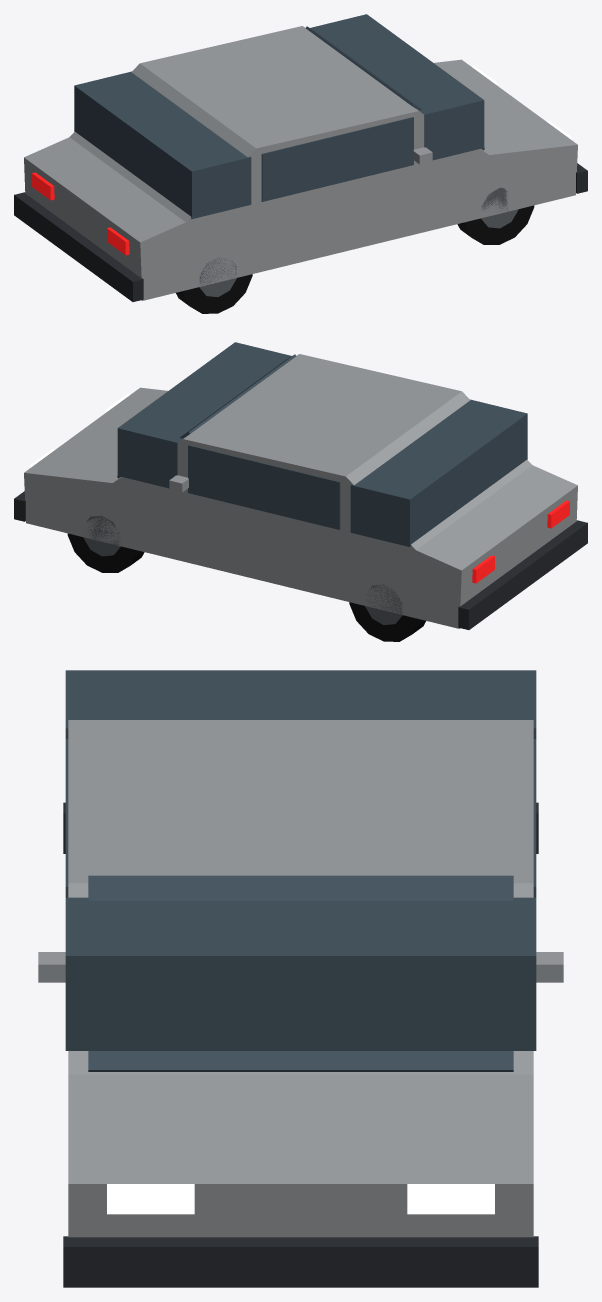
The model's file is cg-car-silver.glb.
3 views of the same model, one above another, from view 1: azimuth 30°, elevation 25°; view 2: azimuth 150°, elevation 25°; view 3: azimuth 270°, elevation 25° (orthographic). The views are drawn at different scales.
Visible parts, largest first — view 1: cg-car-silver; view 2: cg-car-silver; view 3: cg-car-silver.
Boxes of the visible parts, left/top/right/bottom form: cg-car-silver: left=14, top=14, right=587, bottom=313; cg-car-silver: left=14, top=342, right=587, bottom=641; cg-car-silver: left=38, top=670, right=563, bottom=1287.
Bounding box in the file's own units: 4.2 × 1.39 × 2.1.
